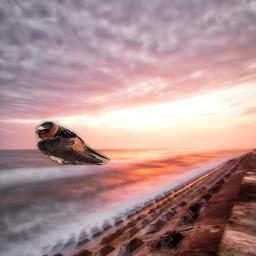Swallow: (35, 121, 111, 166)
